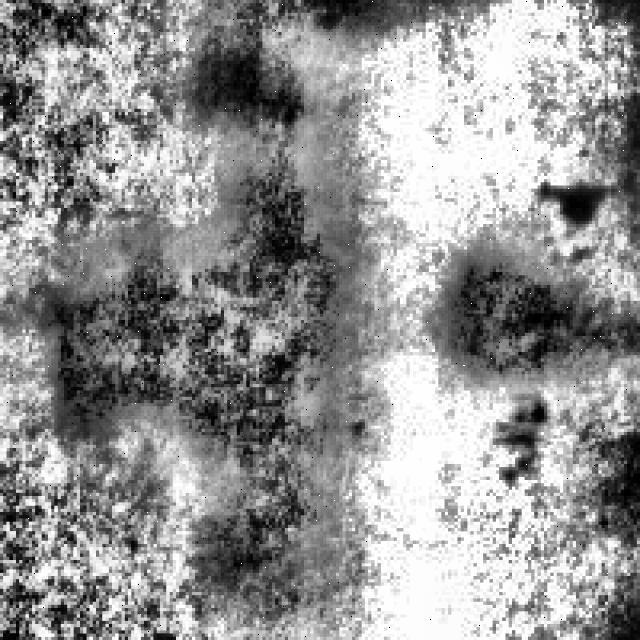Scratches: (35, 144, 368, 483), (432, 234, 630, 388), (182, 28, 333, 154)
